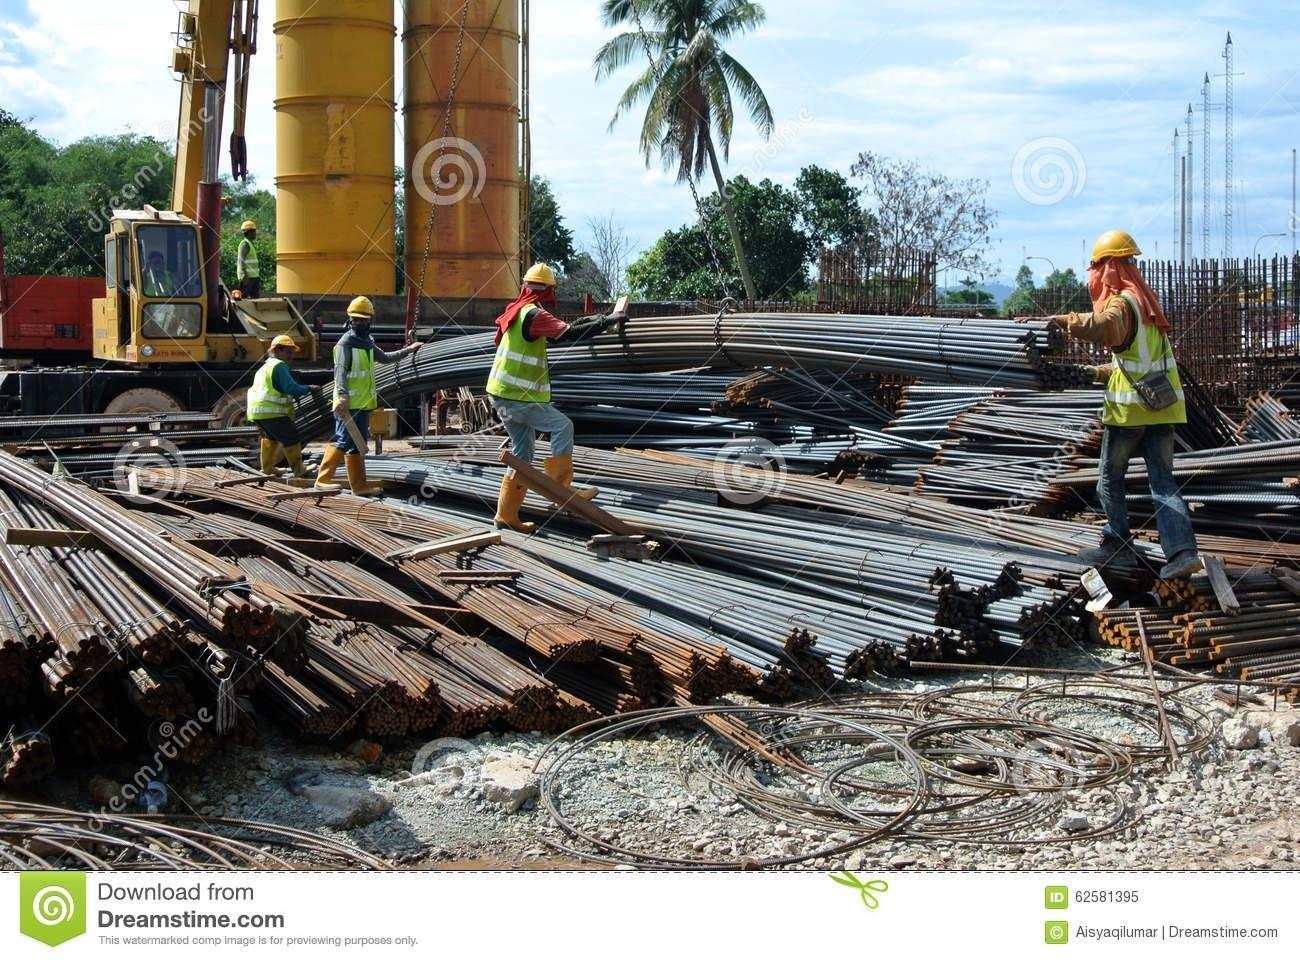person: (1081, 212, 1211, 625), (472, 259, 580, 534), (317, 295, 399, 489), (251, 319, 321, 481)
